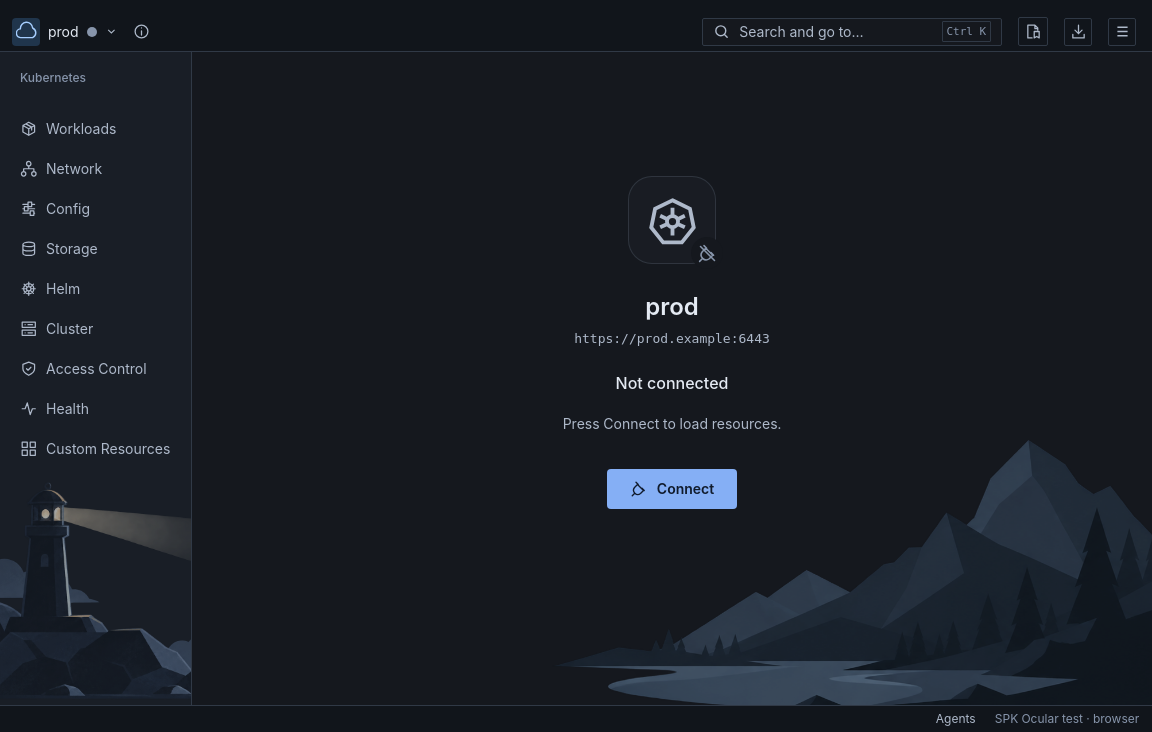
keeps the only Connect action in the right status panel and previews sections without reading resources
Click the button "Connect": (672, 489) [607,469,737,509]
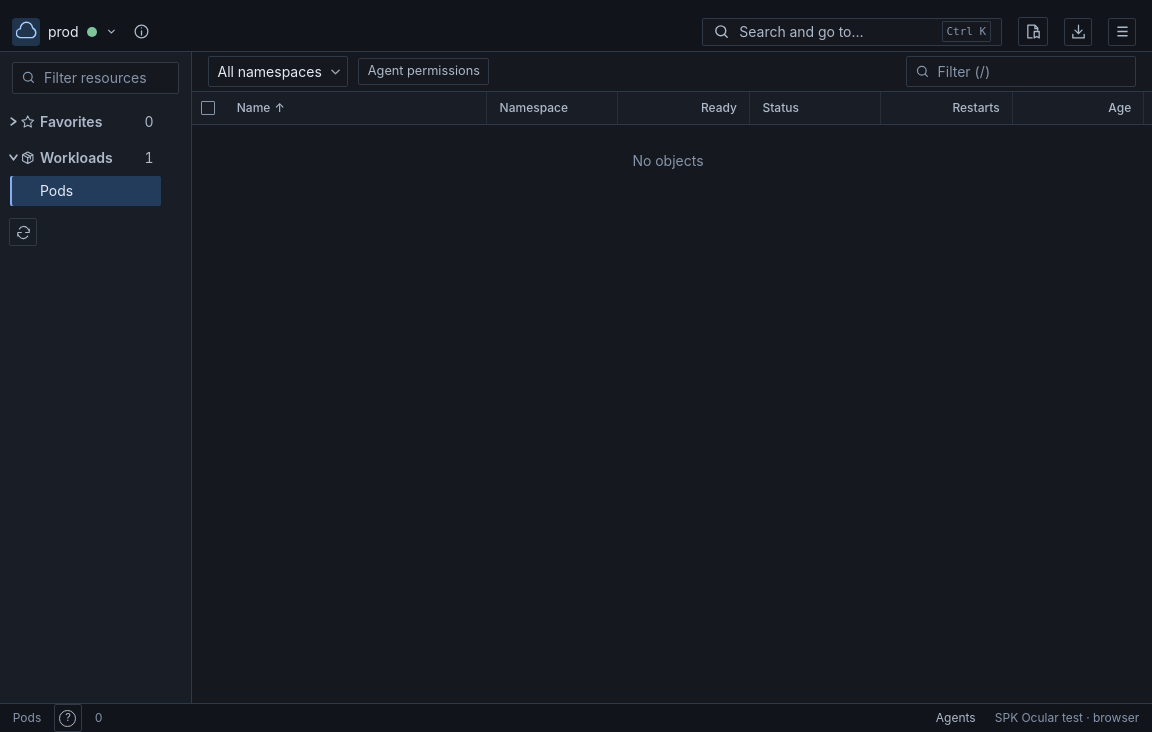
Check: the table named "resources" is shown
Check: the element with class "connection-workspace" is gone
Check: the element with class "connection-main" is gone
